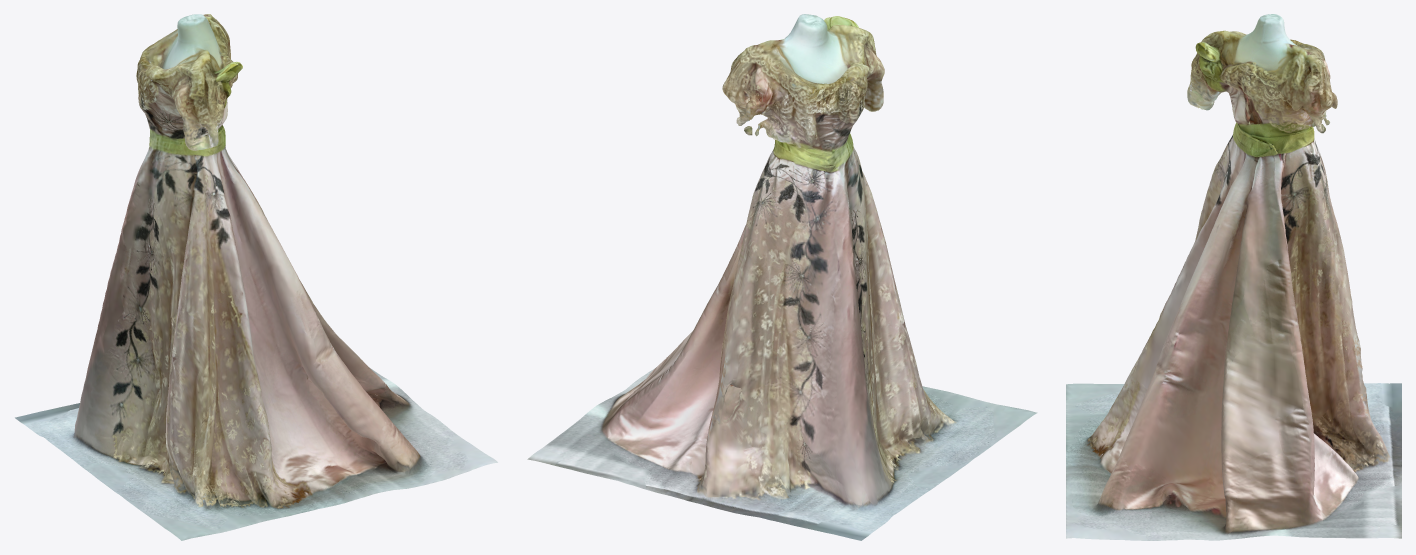
File: dress3.glb
The picture shows the model from 3 angles, left to right: view 1: azimuth 30°, elevation 25°; view 2: azimuth 150°, elevation 25°; view 3: azimuth 270°, elevation 25°; orthographic projection. The views are drawn at different scales.
Parts seen in each view (by area): view 1: Object_2; view 2: Object_2; view 3: Object_2.
Boxes of the visible parts, x1,y1,x2,y2 form: Object_2: (15,14,497,540); Object_2: (527,14,1037,540); Object_2: (1066,14,1401,540).
Bounding box in the file's own units: 1.13 × 1.49 × 1.03.
Materials: 1 (1 with a texture image).
